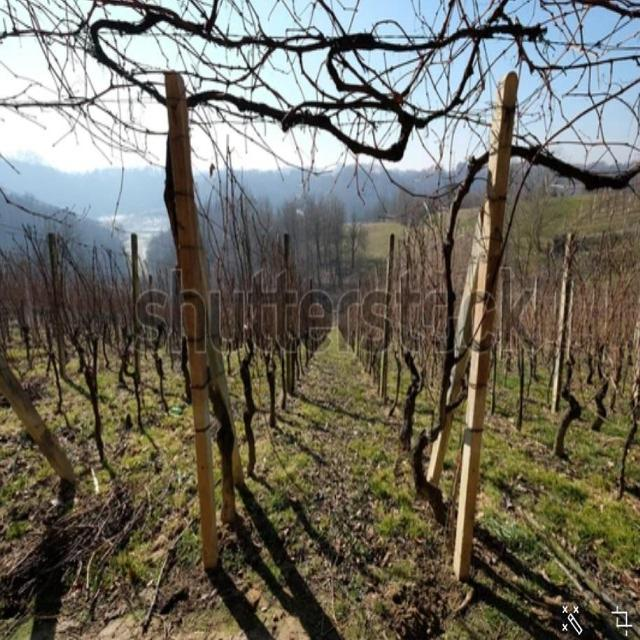row: (219, 322, 457, 577), (379, 365, 640, 573), (76, 371, 282, 558)
